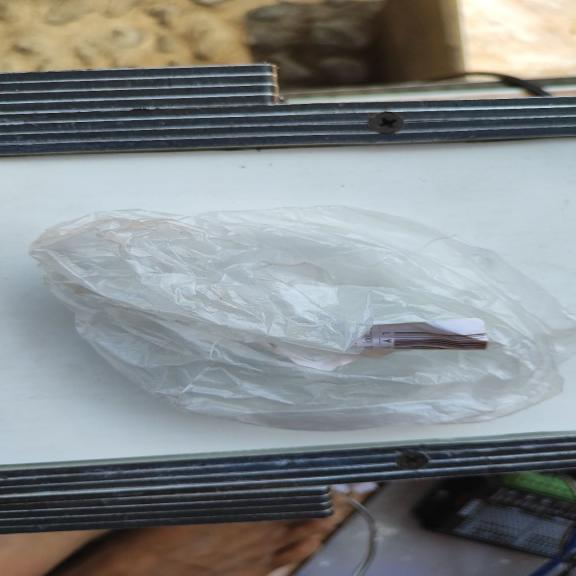Plastik: (30, 203, 576, 430)
